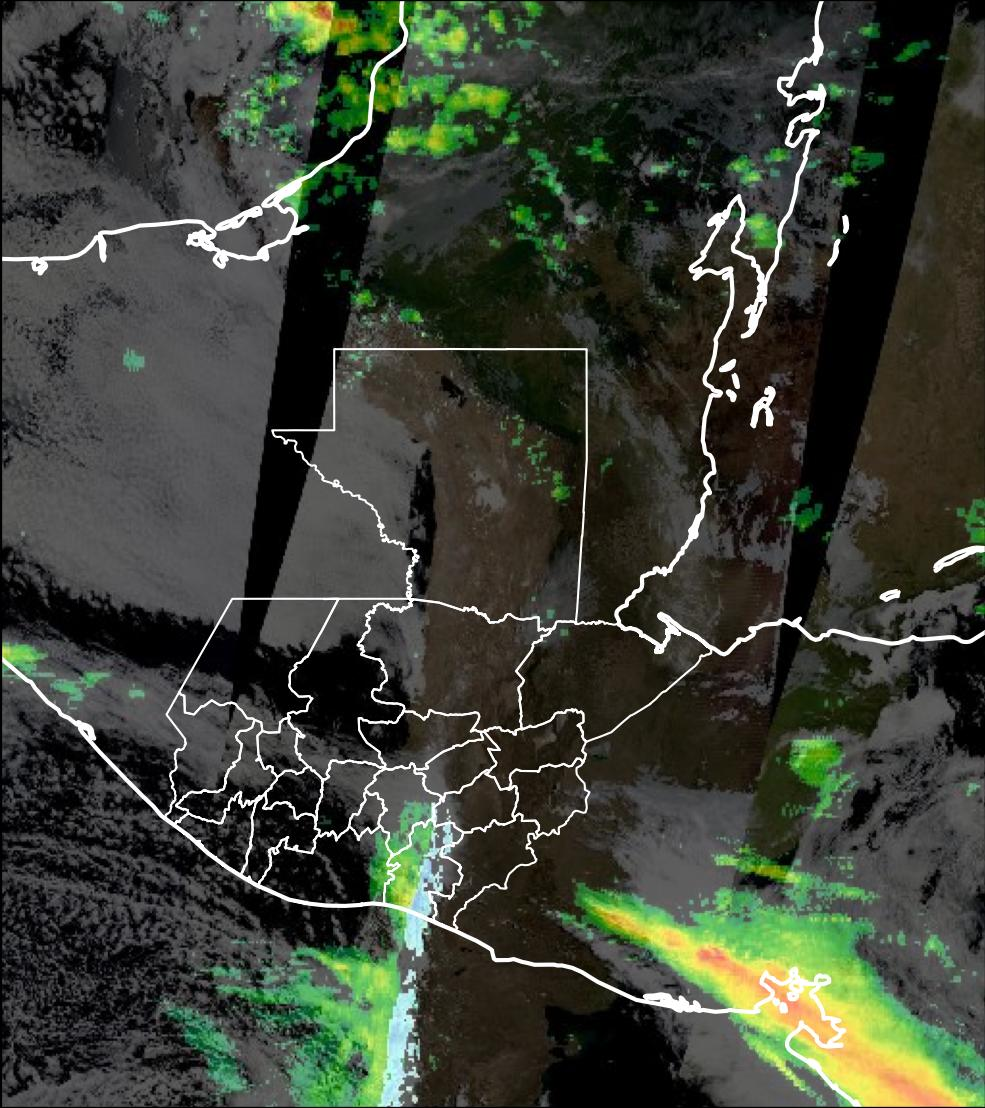precipitacion: (699, 949, 985, 1108)
